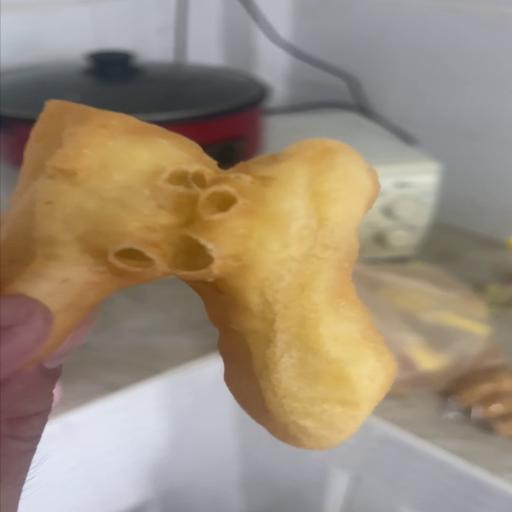street_golden_defect: (0, 101, 395, 449)
